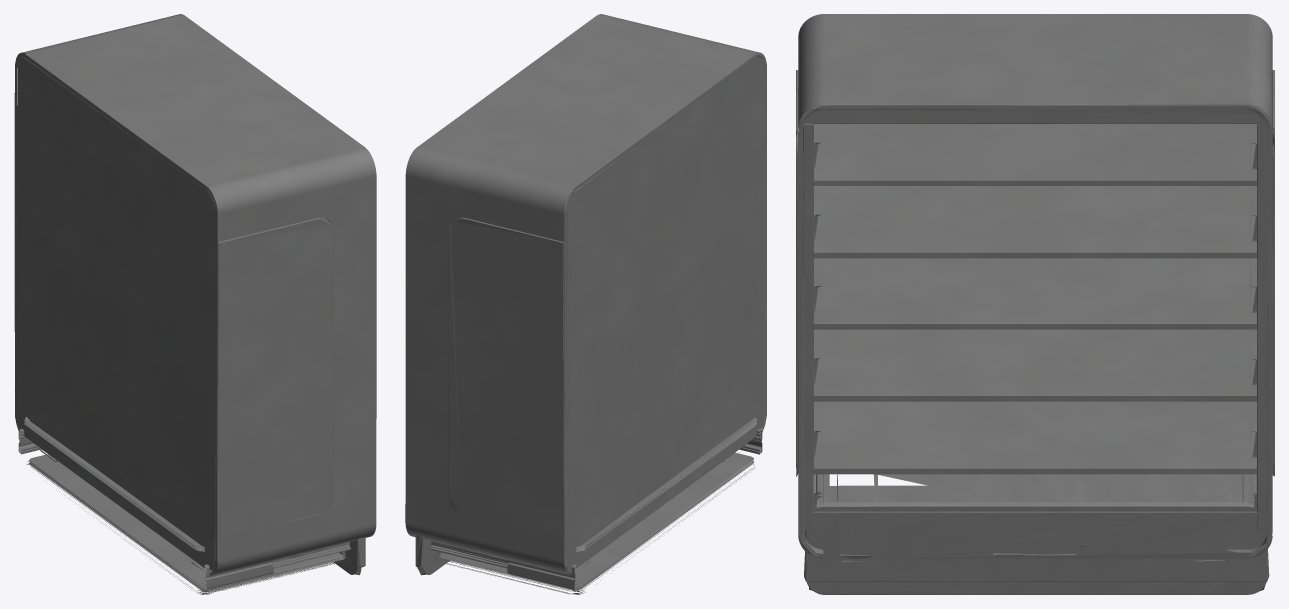
The model's file is cabinet_file_c04.glb.
3 views of the same model, side by side, from view 1: azimuth 30°, elevation 25°; view 2: azimuth 150°, elevation 25°; view 3: azimuth 270°, elevation 25° (orthographic). The views are drawn at different scales.
Visible parts, largest first — view 1: geometry_0; view 2: geometry_0; view 3: geometry_0.
Part boxes in pixels (bbox=[...]): geometry_0: bbox=[14, 14, 376, 594]; geometry_0: bbox=[405, 14, 766, 594]; geometry_0: bbox=[796, 14, 1274, 594].
Bounding box in the file's own units: 0.1723 × 0.42 × 0.3681.
Materials: 1 (1 with a texture image).
